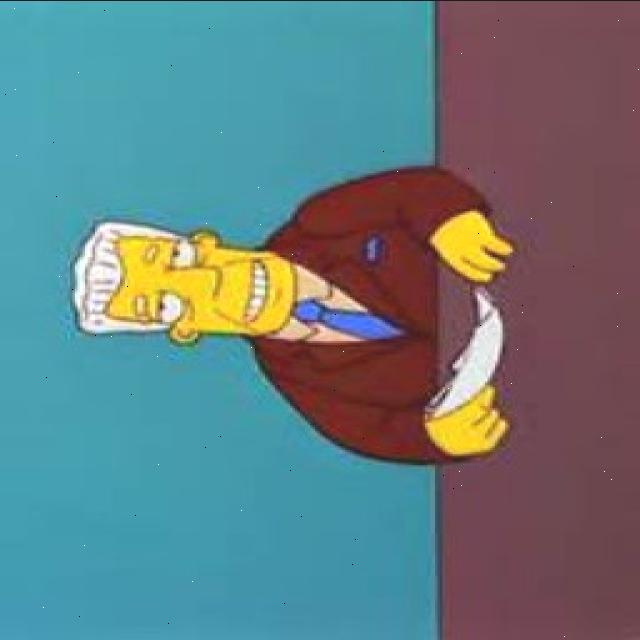Kent Brockman: (68, 218, 308, 344)
